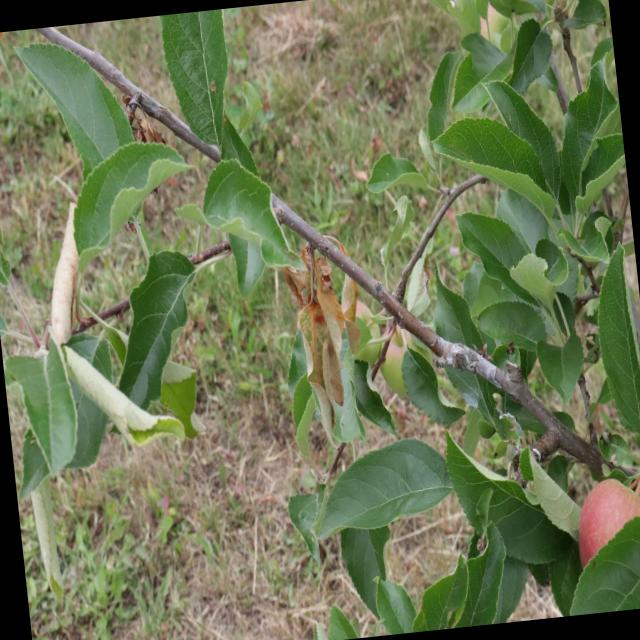-FireBlight-: (276, 237, 372, 410)
